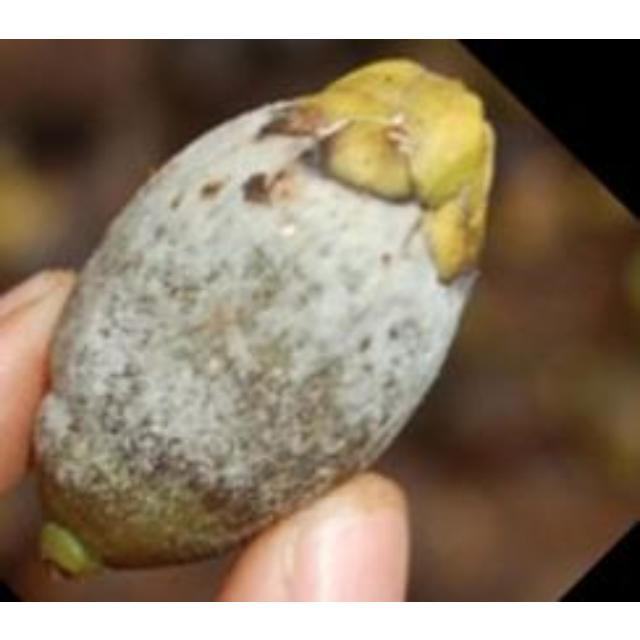damaged: (31, 56, 496, 589)
